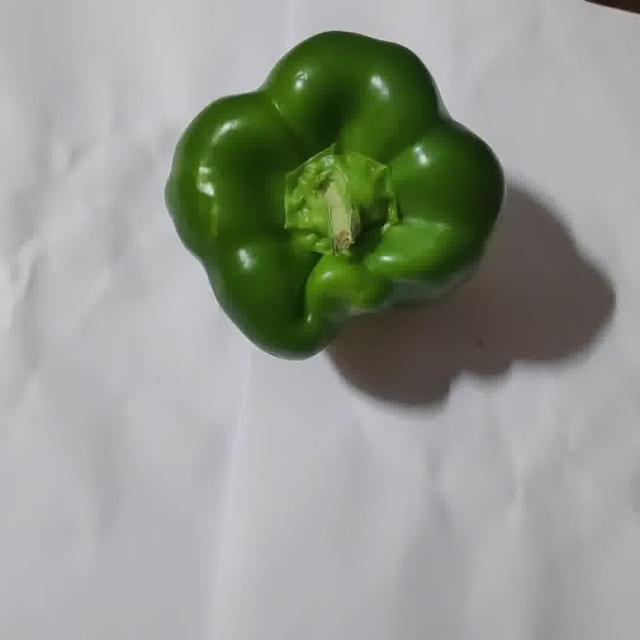Bell Pepper: (166, 31, 503, 359)
